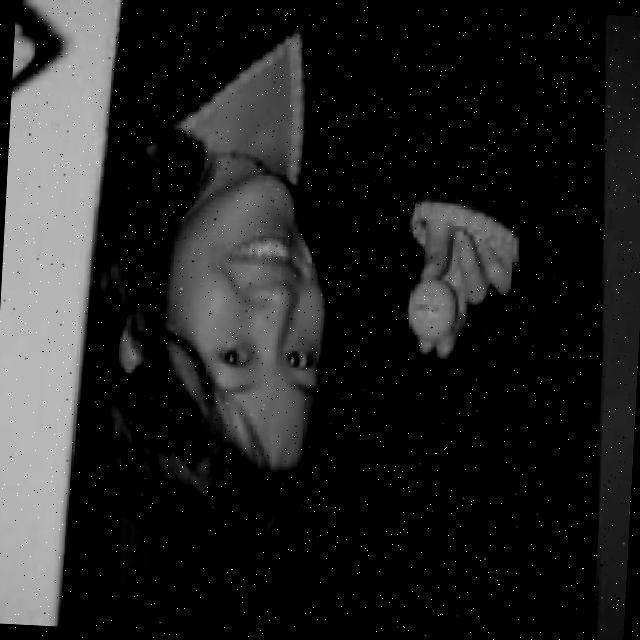ping-pong-ball: (406, 274, 458, 346)
